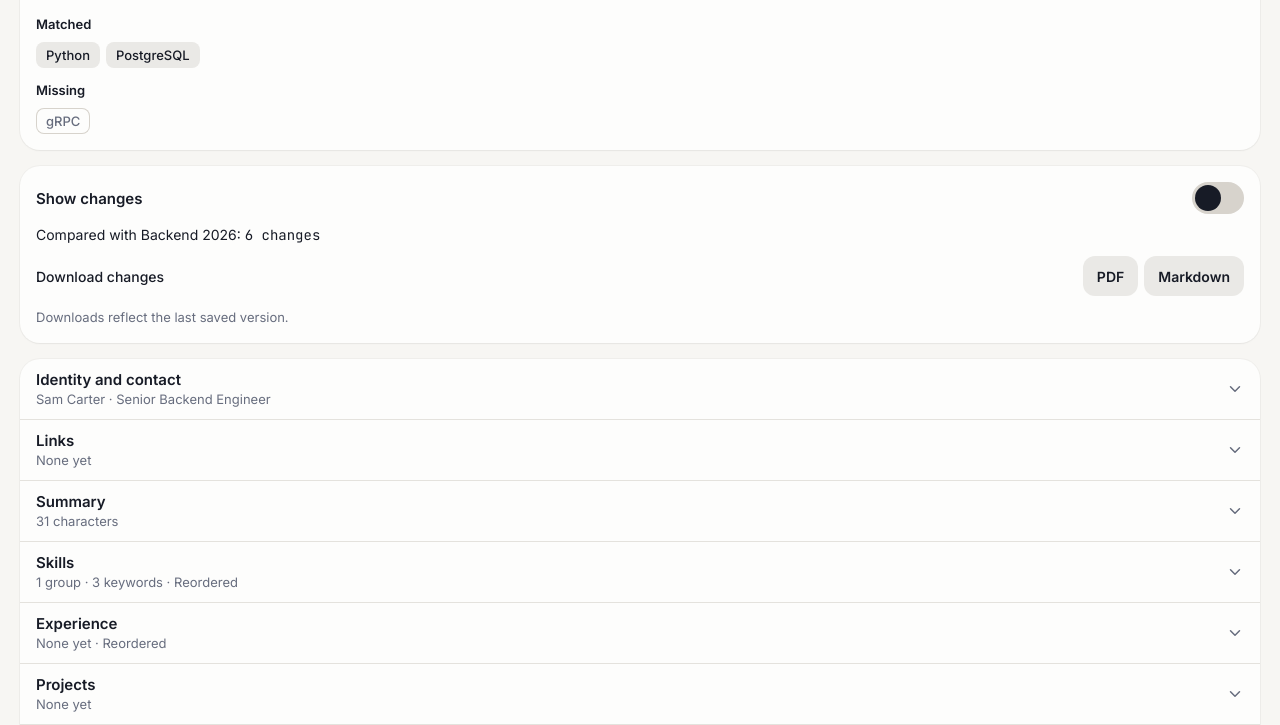
it: ApplicationCvScreenView: the copy's editor › a read-only copy's fields are locked and its submit sends nothing
(page scrolled)
Click the button "Identity and contact" at coordinates (108, 380), box [20,359,1260,419]
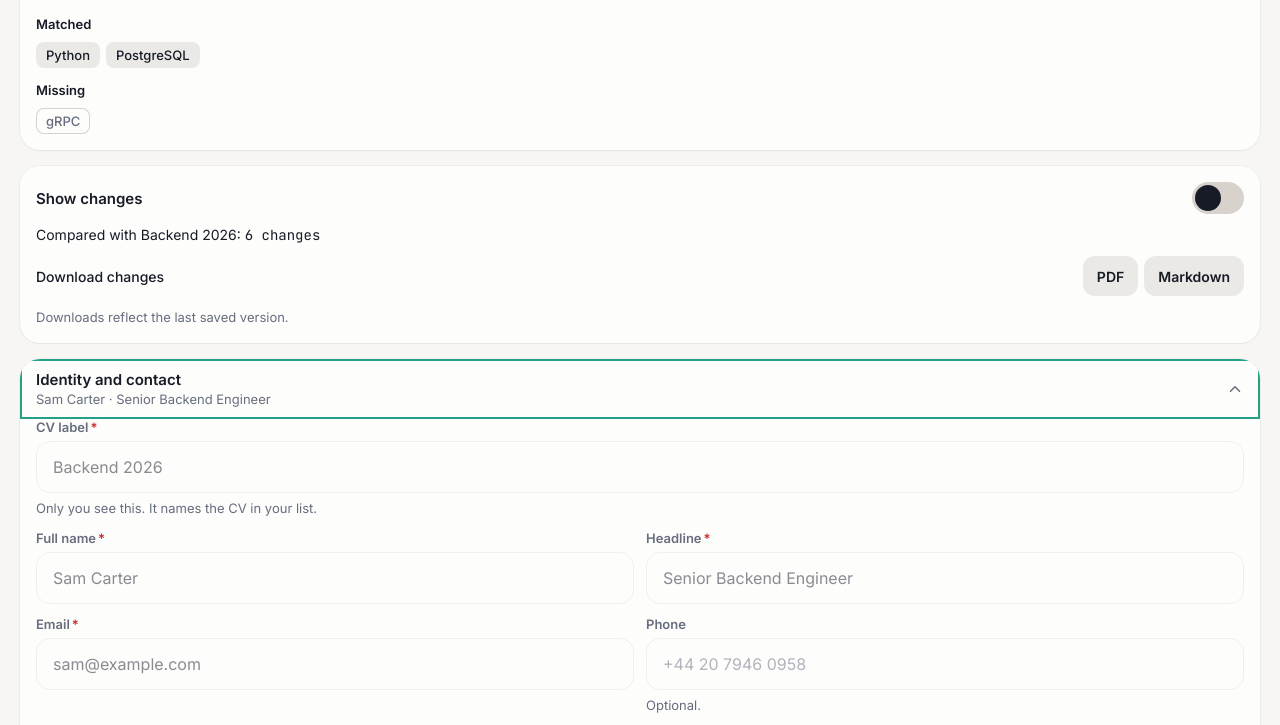
Result: the field labelled "Full name" is disabled at [36,552,634,604]
